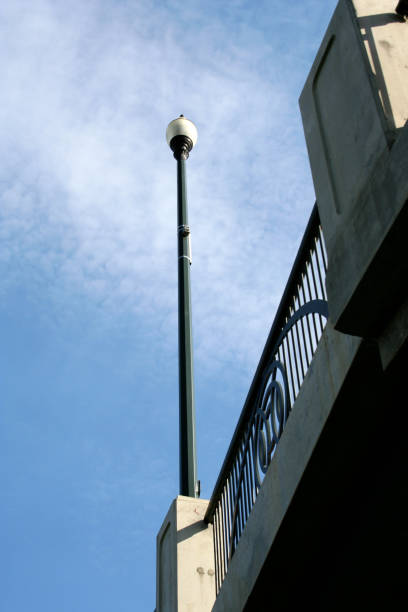light_pole: (168, 158, 202, 493)
